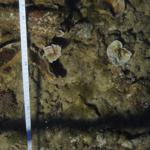dead: (34, 7, 149, 146)
